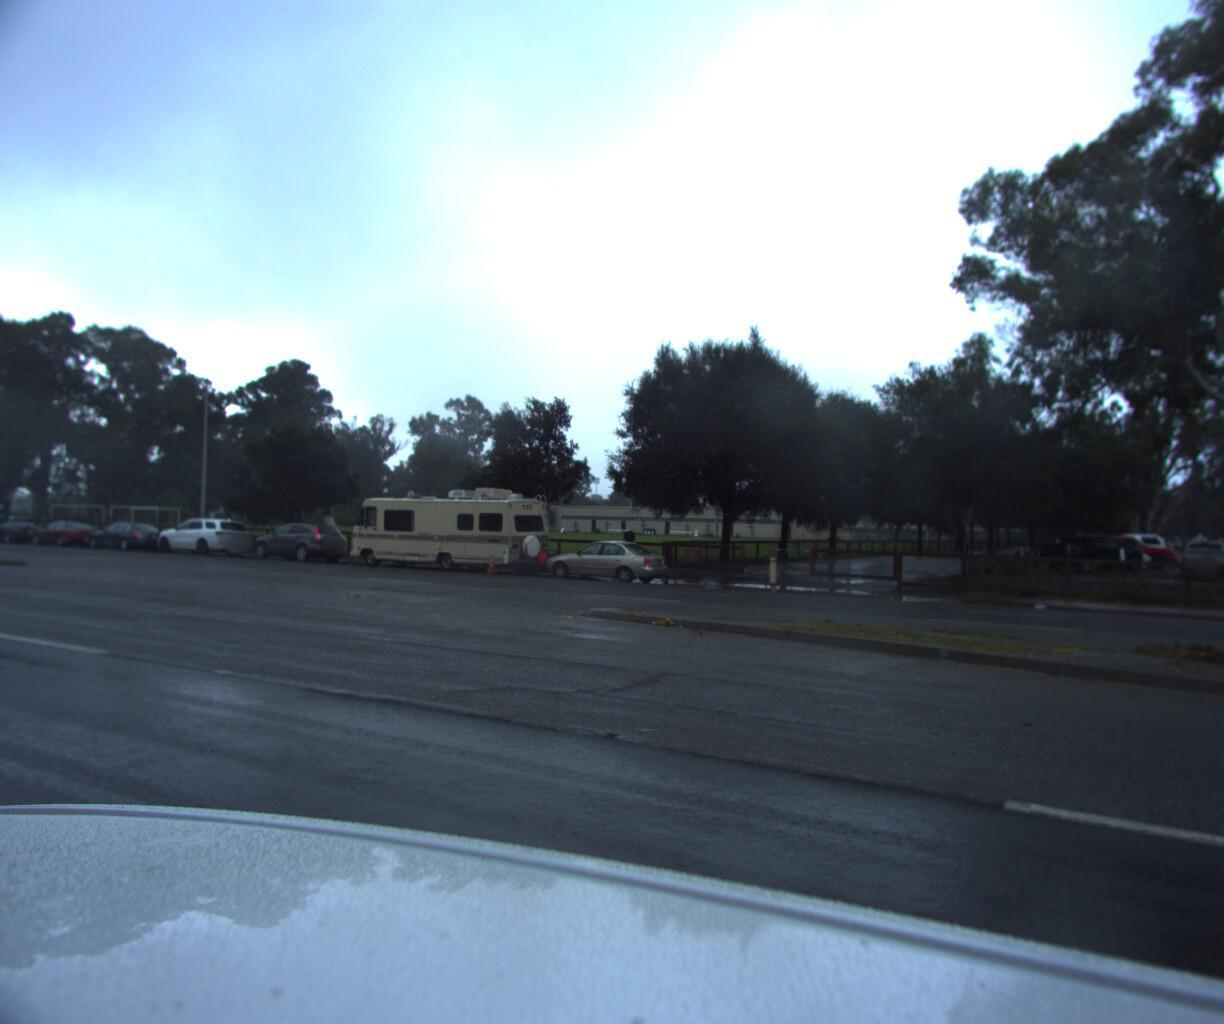car: (538, 536, 676, 586), (244, 521, 351, 565), (149, 519, 257, 560), (79, 518, 175, 556), (26, 523, 105, 552), (0, 522, 46, 548), (0, 497, 3, 595)
other_vehicle: (341, 480, 568, 577), (0, 499, 20, 545)
